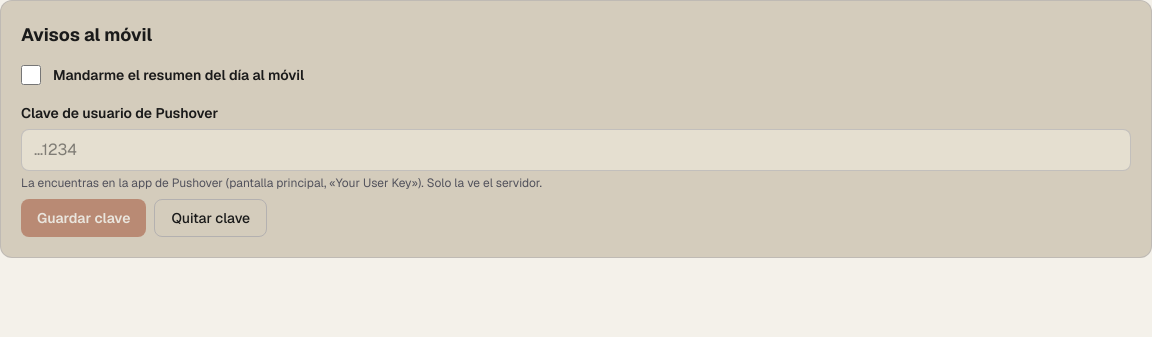
Test: Avisos al móvil › el interruptor guarda resumen_push y «Quitar clave» manda null
Click the switch: (31, 75) [21,65,41,85]
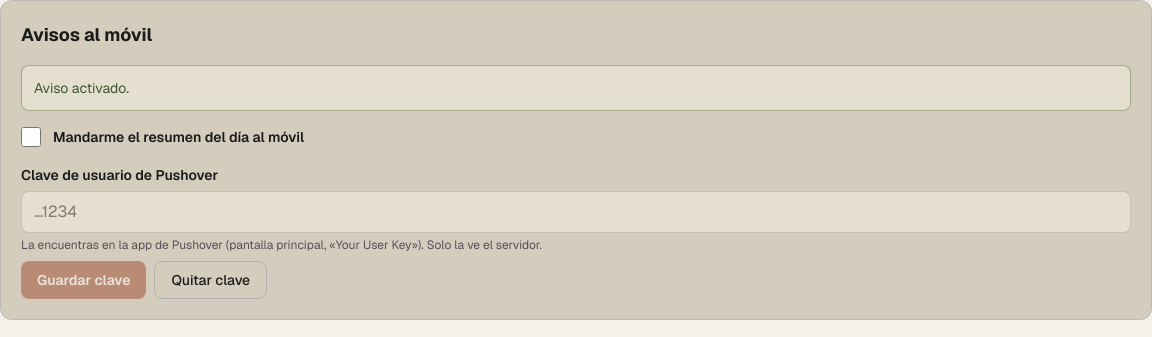
Now the text "Aviso activado." is shown, box [21,65,1131,111]
Click the button "Quitar clave": (211, 280) [154,261,267,299]
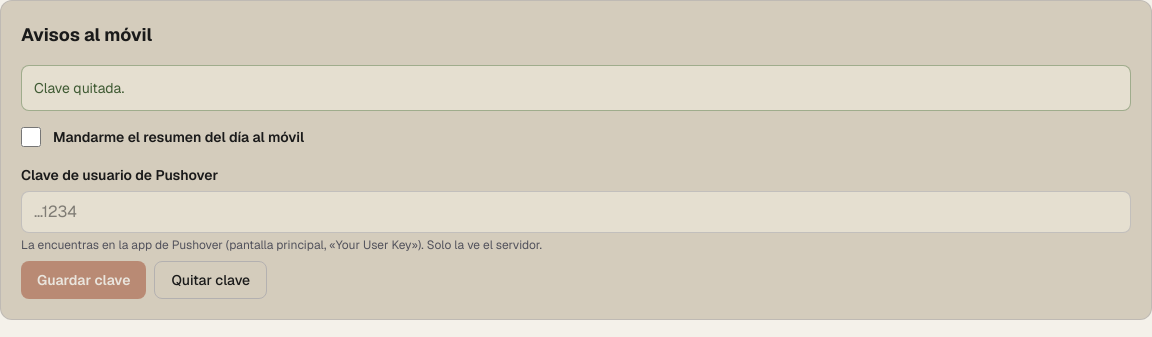
Now the text "Clave quitada." is shown, box [21,65,1131,111]
